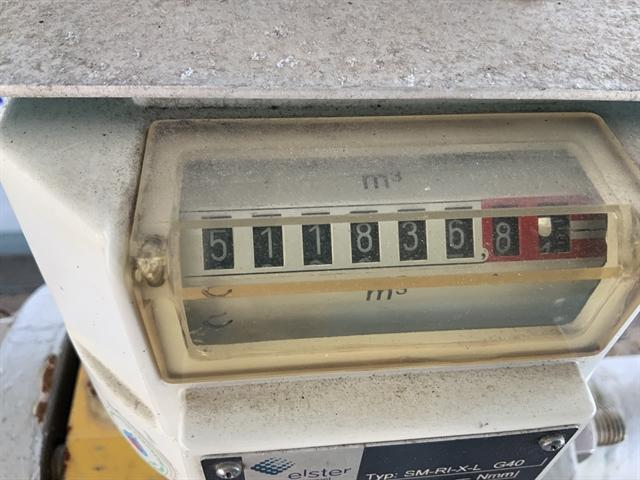analog_dial: (179, 213, 611, 287)
